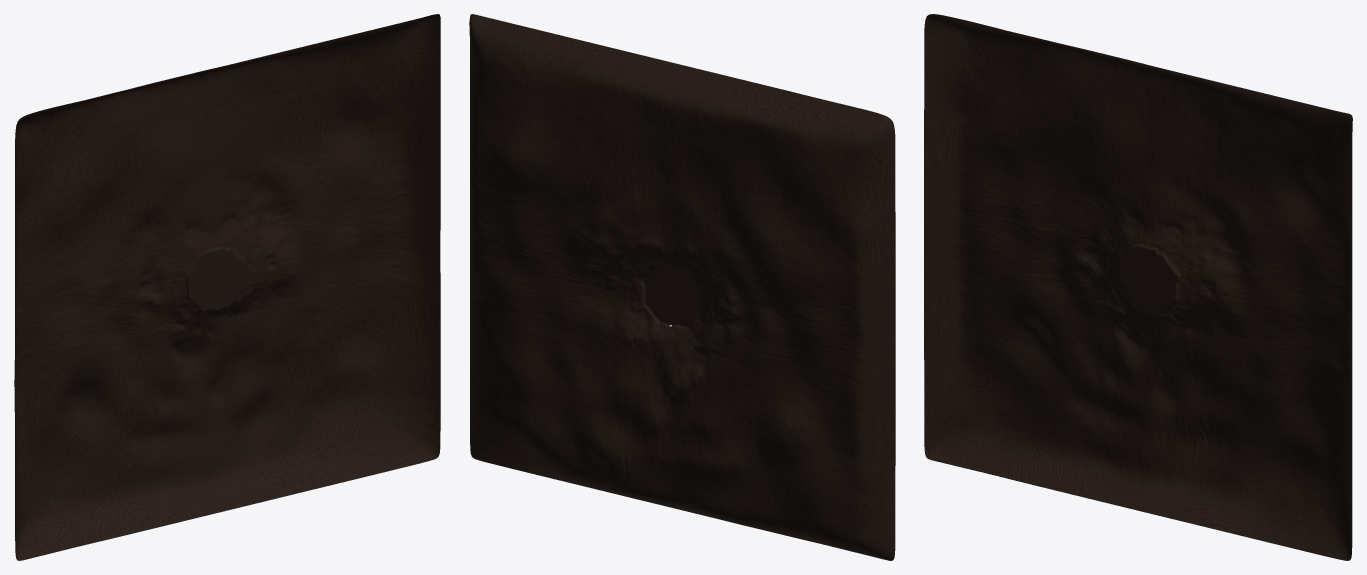
The model's file is rykard_arena.glb.
3 views of the same model, side by side, from view 1: azimuth 30°, elevation 25°; view 2: azimuth 150°, elevation 25°; view 3: azimuth 330°, elevation 25° (orthographic).
Parts seen in each view (by area): view 1: mesh[1], mesh[0]; view 2: mesh[1], mesh[0]; view 3: mesh[1], mesh[0].
Part boxes in pixels (x1,y1,x2,y2): mesh[1]: (16, 36, 406, 522); mesh[0]: (14, 14, 440, 560); mesh[1]: (472, 53, 861, 541); mesh[0]: (469, 14, 895, 560); mesh[1]: (958, 32, 1349, 522); mesh[0]: (924, 14, 1352, 560).
Bounding box in the file's own units: 1169 × 1169 × 118.
2 materials, 2 textured.
